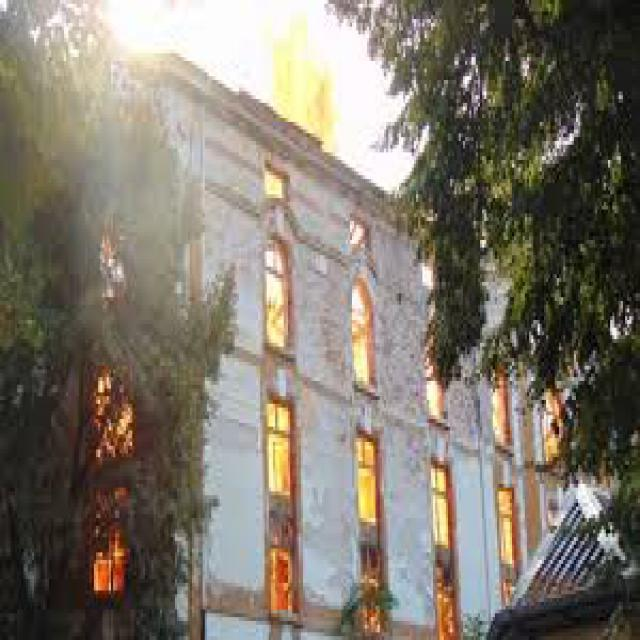Fire: (73, 342, 145, 608), (276, 14, 360, 158), (346, 279, 387, 407), (250, 244, 295, 352), (263, 405, 301, 502), (351, 438, 381, 538), (496, 492, 527, 584), (358, 559, 392, 639), (429, 469, 447, 578), (255, 160, 295, 207), (420, 365, 453, 420), (494, 382, 520, 450), (436, 569, 460, 640), (269, 559, 296, 618)
